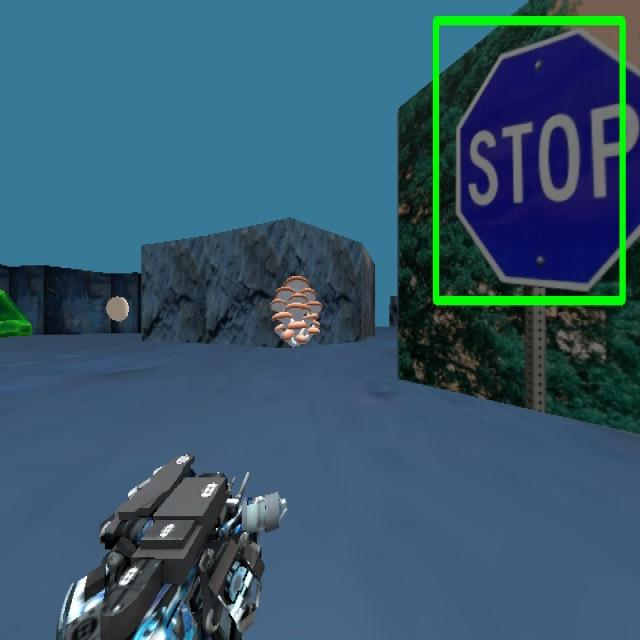Circle: (101, 291, 136, 333)
Diamon: (0, 267, 36, 339)
Mushroom: (269, 273, 323, 348)
Stop_Sign: (431, 12, 628, 308)
